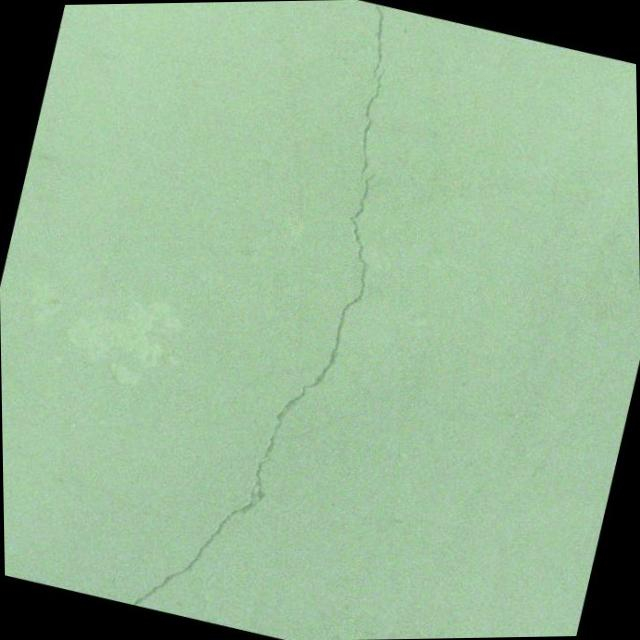crack: (123, 135, 400, 640), (333, 4, 406, 178)
